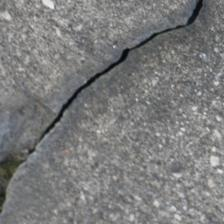Crack: (30, 4, 203, 152)
